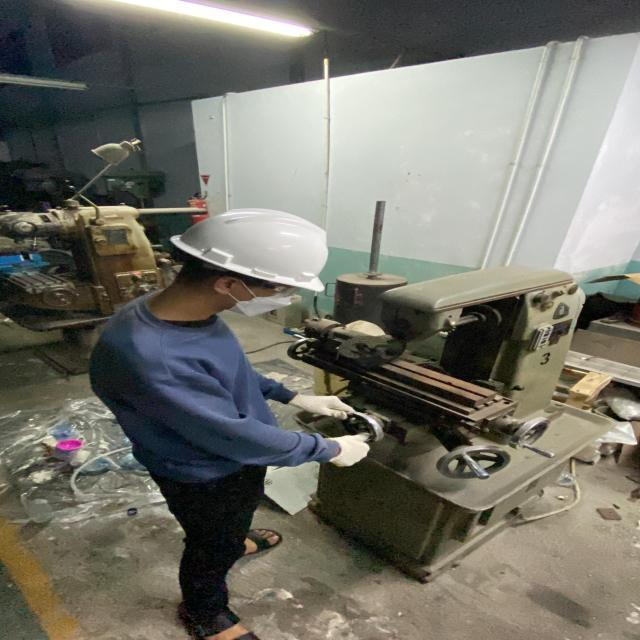glasses: (246, 279, 306, 299)
